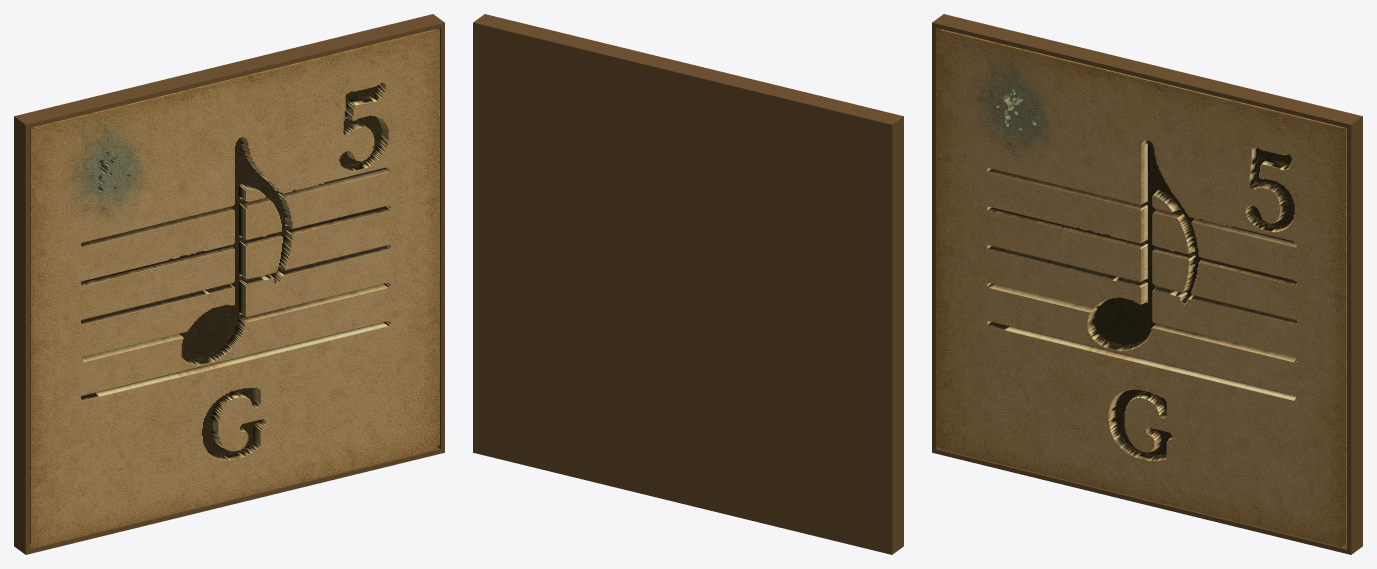
File: note5.fbx
3 renders of one model, left to right at view 1: azimuth 30°, elevation 25°; view 2: azimuth 150°, elevation 25°; view 3: azimuth 330°, elevation 25°, orthographic.
Parts seen in each view (by area): view 1: meshes[0]; view 2: meshes[0]; view 3: meshes[0].
Part boxes in pixels (x1=…): meshes[0]: x1=14, y1=14, x2=444, y2=554; meshes[0]: x1=473, y1=14, x2=903, y2=554; meshes[0]: x1=932, y1=14, x2=1362, y2=554.
Bounding box in the file's own units: 410 × 402 × 20.
